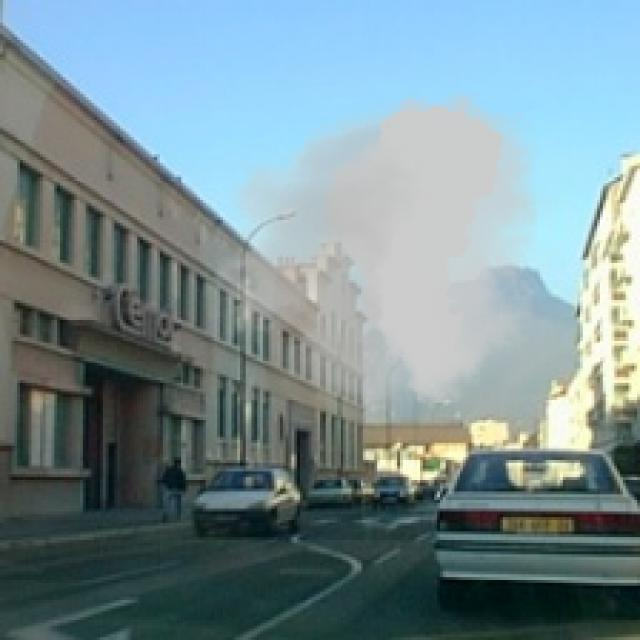smoke: (191, 83, 566, 426)
